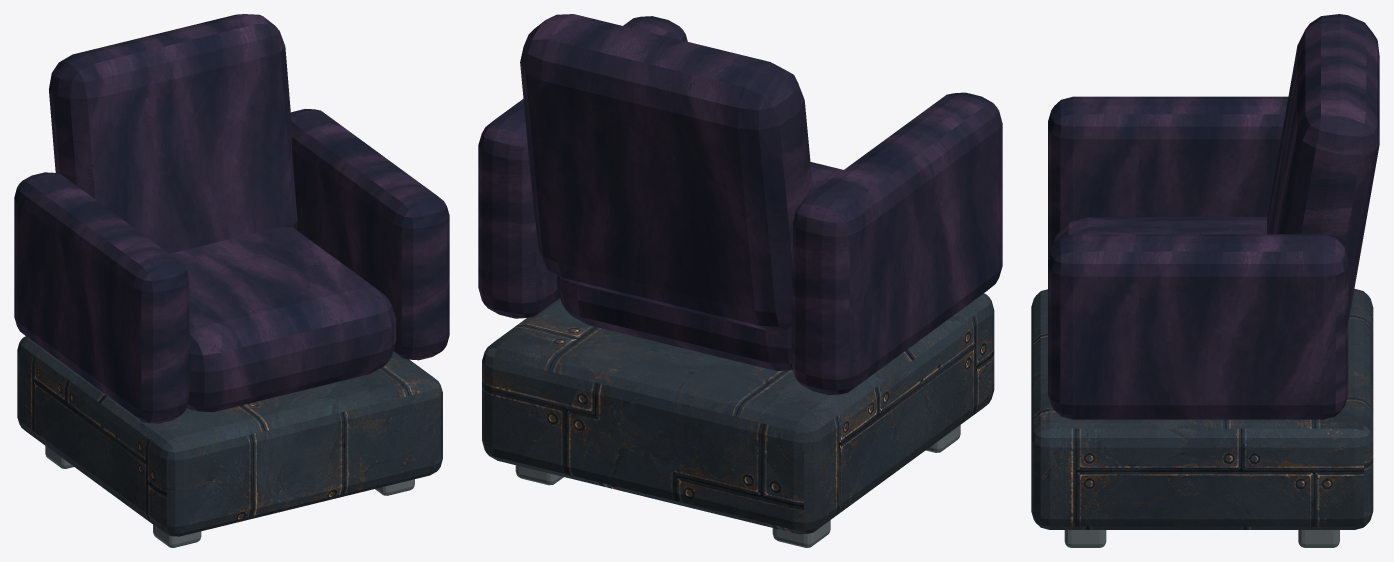
File: APT_Chair_Lounge_Plum.glb
3 renders of one model, left to right at view 1: azimuth 30°, elevation 25°; view 2: azimuth 150°, elevation 25°; view 3: azimuth 270°, elevation 25°, orthographic. The views are drawn at different scales.
Visible parts, largest first — view 1: APT_Chair_Lounge_Plum_Base, APT_Chair_Lounge_Plum_Back, APT_Chair_Lounge_Plum_Arm_-0.39, APT_Chair_Lounge_Plum_Seat, APT_Chair_Lounge_Plum_Arm_0.39, APT_Chair_Lounge_Plum_Foot_-0.32_-0.28; view 2: APT_Chair_Lounge_Plum_Base, APT_Chair_Lounge_Plum_Back, APT_Chair_Lounge_Plum_Arm_-0.39, APT_Chair_Lounge_Plum_Arm_0.39, APT_Chair_Lounge_Plum_Seat, APT_Chair_Lounge_Plum_Foot_-0.32_0.28; view 3: APT_Chair_Lounge_Plum_Arm_0.39, APT_Chair_Lounge_Plum_Base, APT_Chair_Lounge_Plum_Arm_-0.39, APT_Chair_Lounge_Plum_Back, APT_Chair_Lounge_Plum_Seat, APT_Chair_Lounge_Plum_Foot_0.32_-0.28, APT_Chair_Lounge_Plum_Foot_0.32_0.28.
Part boxes in pixels (<box>): APT_Chair_Lounge_Plum_Base: <box>17,336,442,536</box>; APT_Chair_Lounge_Plum_Back: <box>49,14,297,253</box>; APT_Chair_Lounge_Plum_Arm_-0.39: <box>14,172,189,423</box>; APT_Chair_Lounge_Plum_Seat: <box>170,226,396,412</box>; APT_Chair_Lounge_Plum_Arm_0.39: <box>291,109,449,360</box>; APT_Chair_Lounge_Plum_Foot_-0.32_-0.28: <box>153,525,201,547</box>; APT_Chair_Lounge_Plum_Base: <box>482,293,994,534</box>; APT_Chair_Lounge_Plum_Back: <box>520,14,813,330</box>; APT_Chair_Lounge_Plum_Arm_-0.39: <box>791,92,1002,394</box>; APT_Chair_Lounge_Plum_Arm_0.39: <box>478,16,687,318</box>; APT_Chair_Lounge_Plum_Seat: <box>557,162,843,370</box>; APT_Chair_Lounge_Plum_Foot_-0.32_0.28: <box>772,520,830,547</box>; APT_Chair_Lounge_Plum_Arm_0.39: <box>1048,234,1348,419</box>; APT_Chair_Lounge_Plum_Base: <box>1031,288,1373,529</box>; APT_Chair_Lounge_Plum_Arm_-0.39: <box>1048,96,1288,257</box>; APT_Chair_Lounge_Plum_Back: <box>1267,14,1379,320</box>; APT_Chair_Lounge_Plum_Seat: <box>1052,217,1267,245</box>; APT_Chair_Lounge_Plum_Foot_0.32_-0.28: <box>1064,530,1106,547</box>; APT_Chair_Lounge_Plum_Foot_0.32_0.28: <box>1298,530,1339,547</box>.
Bounding box in the file's own units: 0.94 × 1.12 × 0.8355.
3 materials, 2 textured.
